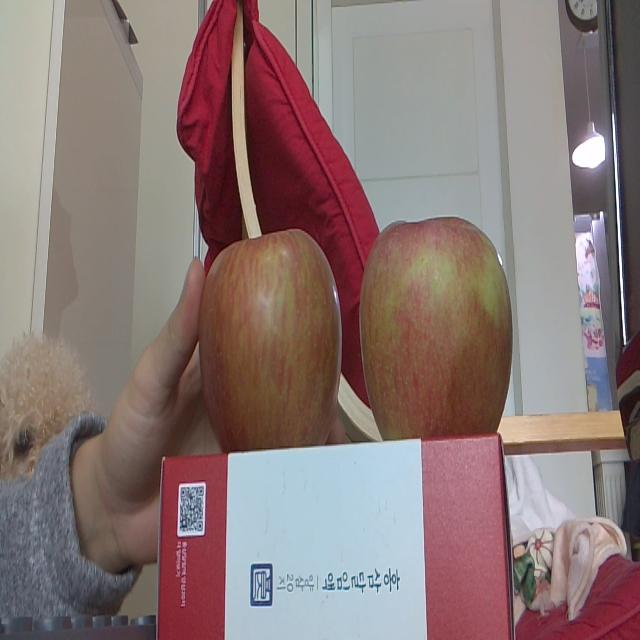apple: (359, 215, 515, 435), (199, 228, 342, 447)
